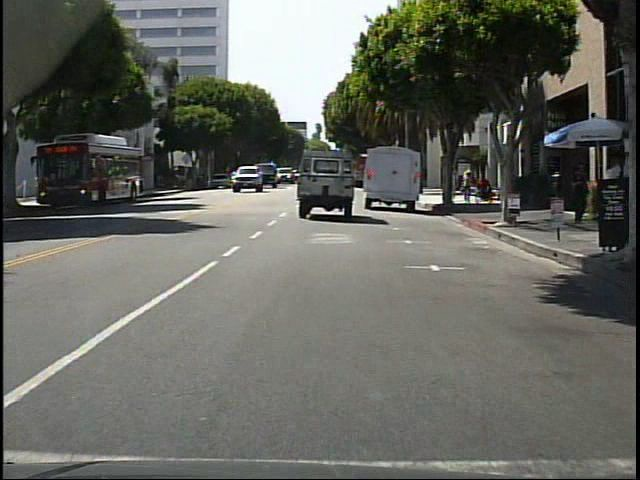person: (598, 149, 628, 251), (570, 168, 590, 225), (462, 169, 474, 205), (449, 165, 460, 204)
